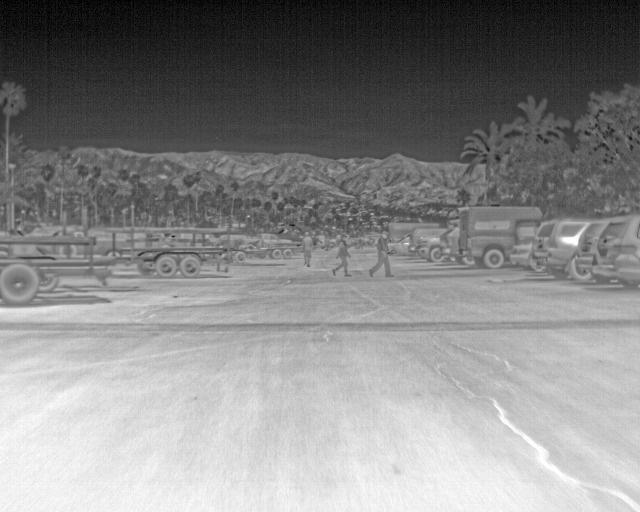bicycle: (537, 217, 592, 284), (590, 214, 638, 286), (570, 220, 608, 282), (416, 227, 458, 263), (436, 225, 470, 269), (258, 230, 294, 246), (385, 235, 412, 256)
empty: (366, 230, 393, 278), (332, 235, 351, 277), (301, 233, 315, 267)
